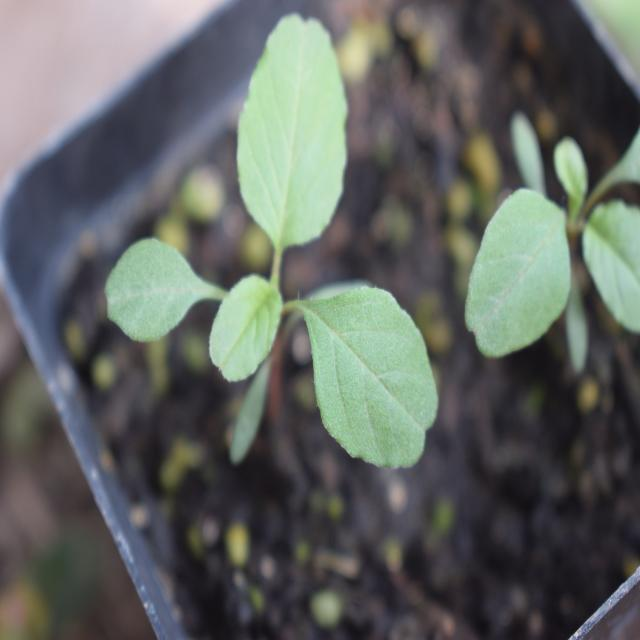pigweed: (83, 24, 448, 459)
